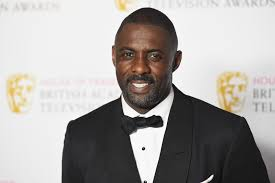person: (111, 7, 182, 110)
